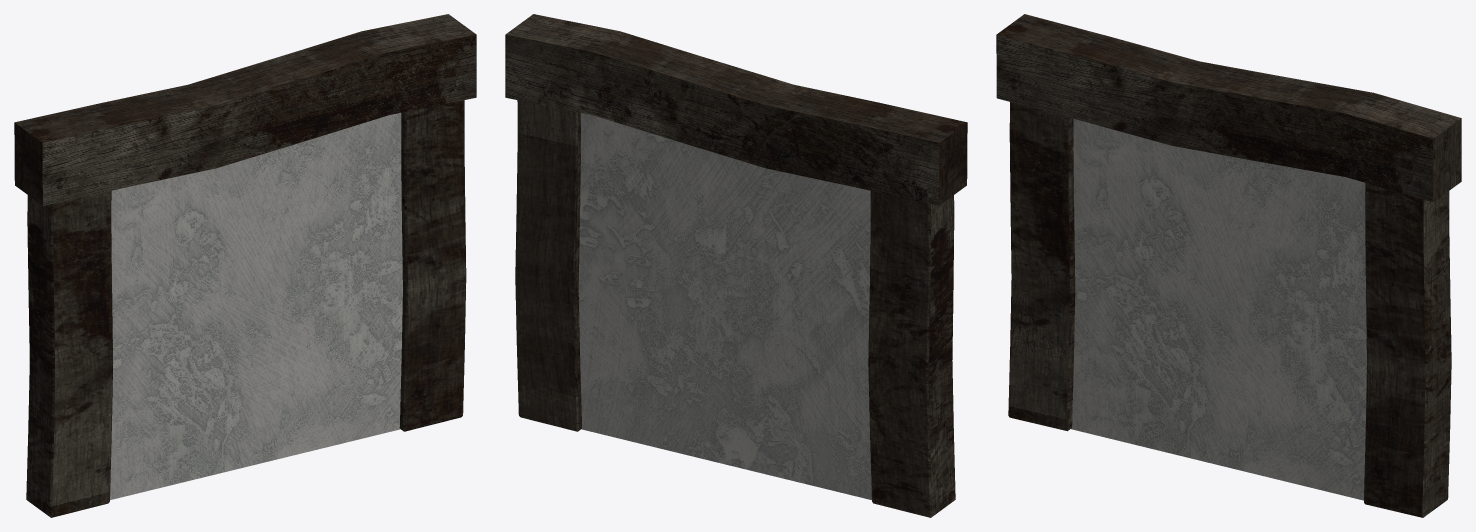
Rendered from TudorWall2.fbx.
3 views of the same model, side by side, from view 1: azimuth 30°, elevation 25°; view 2: azimuth 150°, elevation 25°; view 3: azimuth 330°, elevation 25° (orthographic).
Visible parts, largest first — view 1: TudorWall2; view 2: TudorWall2; view 3: TudorWall2.
Boxes of the visible parts, bbox=[...] form: TudorWall2: bbox=[14, 14, 476, 517]; TudorWall2: bbox=[505, 14, 967, 517]; TudorWall2: bbox=[996, 14, 1461, 517].
Bounding box in the file's own units: 288 × 244 × 32.24.
